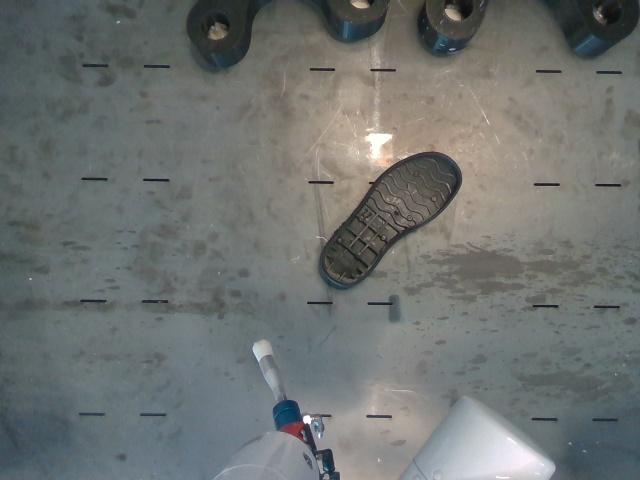shoes: (322, 152, 461, 285)
